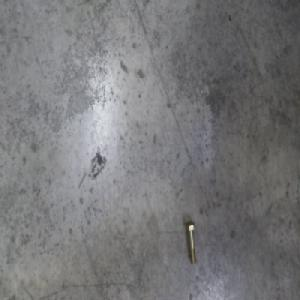Bolt: (185, 219, 197, 265)
